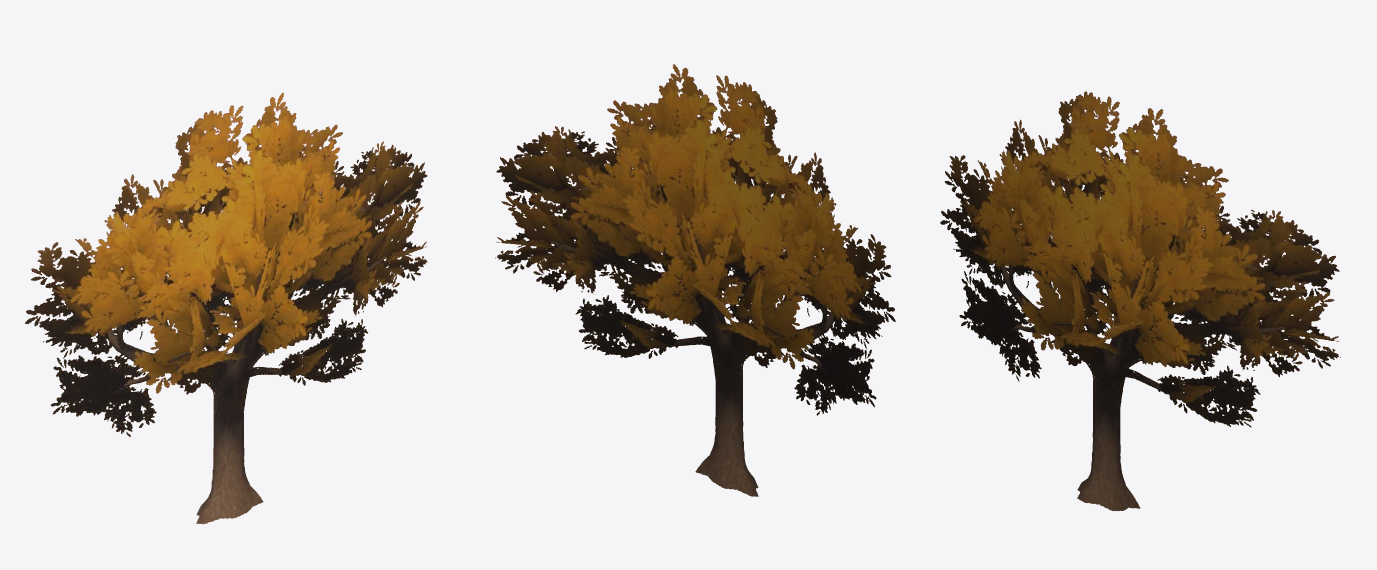
3 renders of one model, left to right at view 1: azimuth 30°, elevation 25°; view 2: azimuth 150°, elevation 25°; view 3: azimuth 330°, elevation 25°, orthographic.
Visible parts, largest first — view 1: body0_model0_lod0_mesh0; view 2: body0_model0_lod0_mesh0; view 3: body0_model0_lod0_mesh0.
Part boxes in pixels (x1,y1,x2,y2): body0_model0_lod0_mesh0: (25, 92, 427, 524); body0_model0_lod0_mesh0: (495, 64, 895, 496); body0_model0_lod0_mesh0: (940, 91, 1340, 510).
Size of the model in its own units: 42.94 by 41.63 by 3.65.
Materials: 1 (1 with a texture image).
